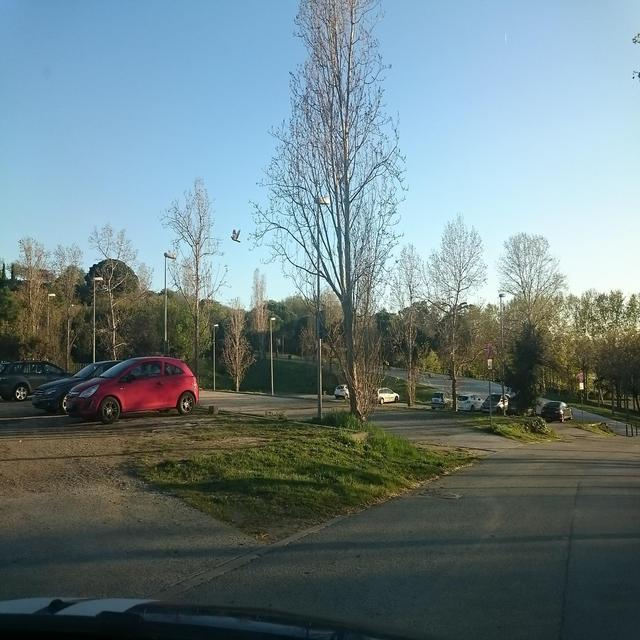Car: (0, 357, 198, 423), (505, 393, 571, 422), (431, 391, 502, 414), (334, 384, 398, 404)
Manhole: (419, 489, 458, 498)
Vegetation: (497, 231, 639, 432), (0, 224, 163, 372)
